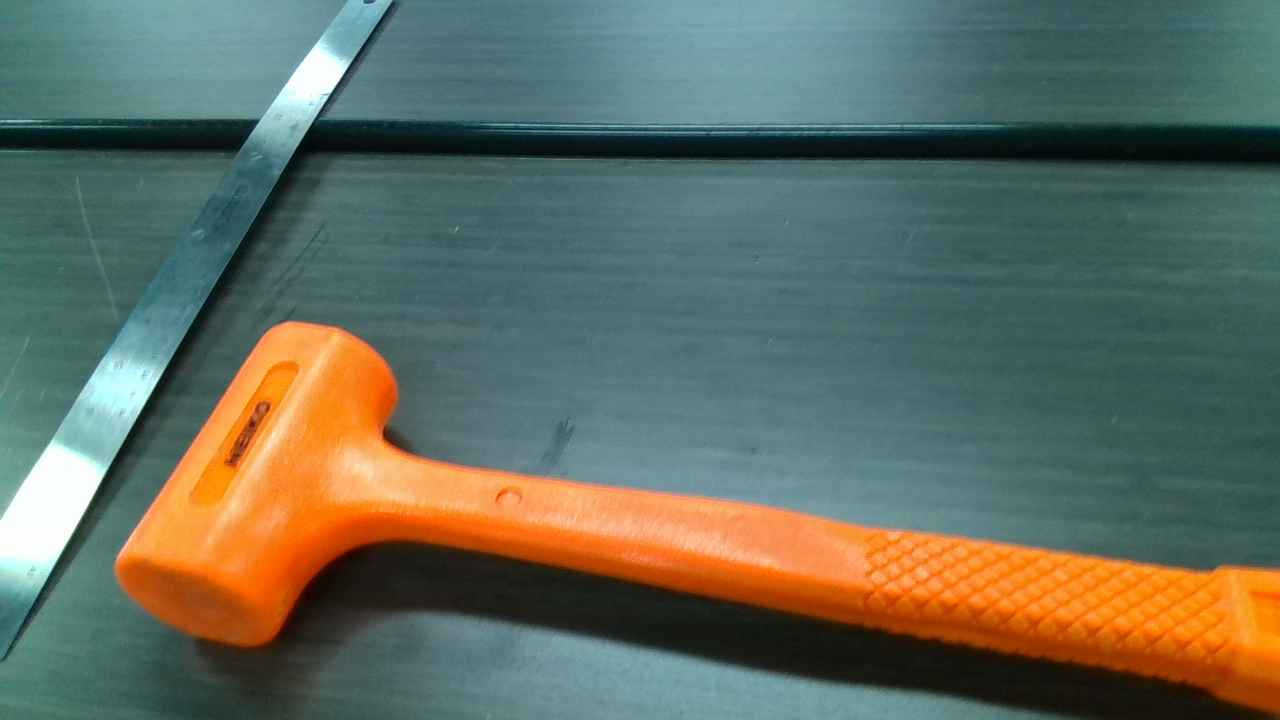Orange Hammer: (124, 322, 1272, 720)
